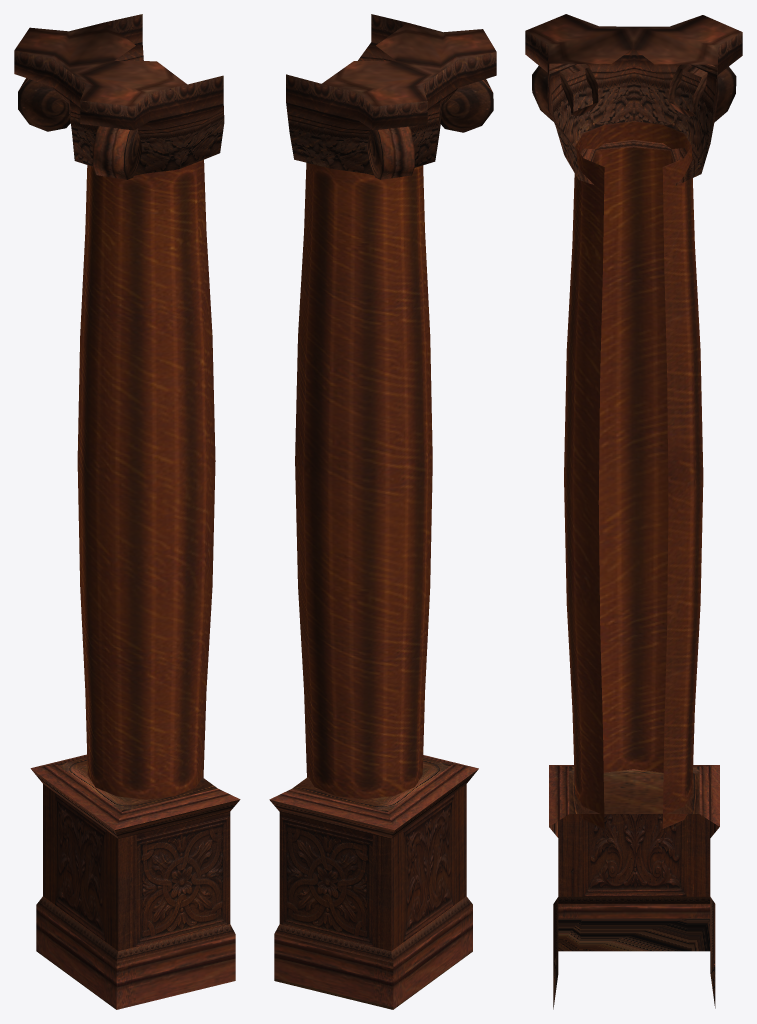
File: ColumncylinderImpaledHalf.fbx
3 renders of one model, left to right at view 1: azimuth 30°, elevation 25°; view 2: azimuth 150°, elevation 25°; view 3: azimuth 270°, elevation 25°, orthographic.
Parts seen in each view (by area): view 1: StraightColumnHalf_LOD0.001; view 2: StraightColumnHalf_LOD0.001; view 3: StraightColumnHalf_LOD0.001.
Boxes of the visible parts, left/top/right/bottom form: StraightColumnHalf_LOD0.001: left=14, top=14, right=240, bottom=1009; StraightColumnHalf_LOD0.001: left=269, top=14, right=496, bottom=1009; StraightColumnHalf_LOD0.001: left=525, top=14, right=742, bottom=1009.
Bounding box in the file's own units: 36.6 × 210 × 44.82.
